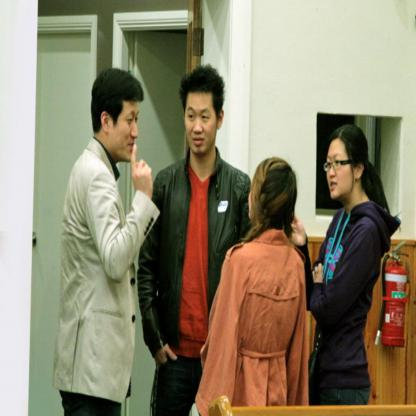face: (186, 91, 217, 155), (112, 93, 140, 160), (327, 141, 354, 198)
